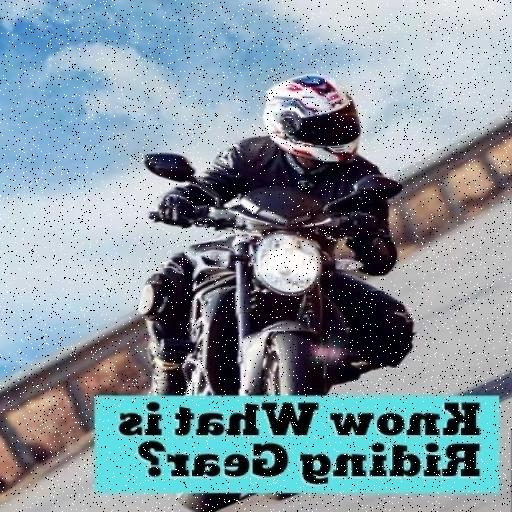Helmet: (264, 75, 360, 162)
Motor: (129, 174, 362, 508)
